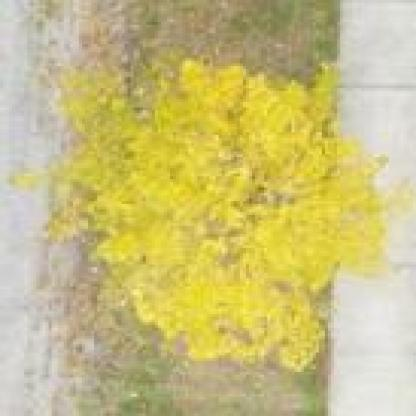Deciduous Tree: (7, 43, 406, 365)
